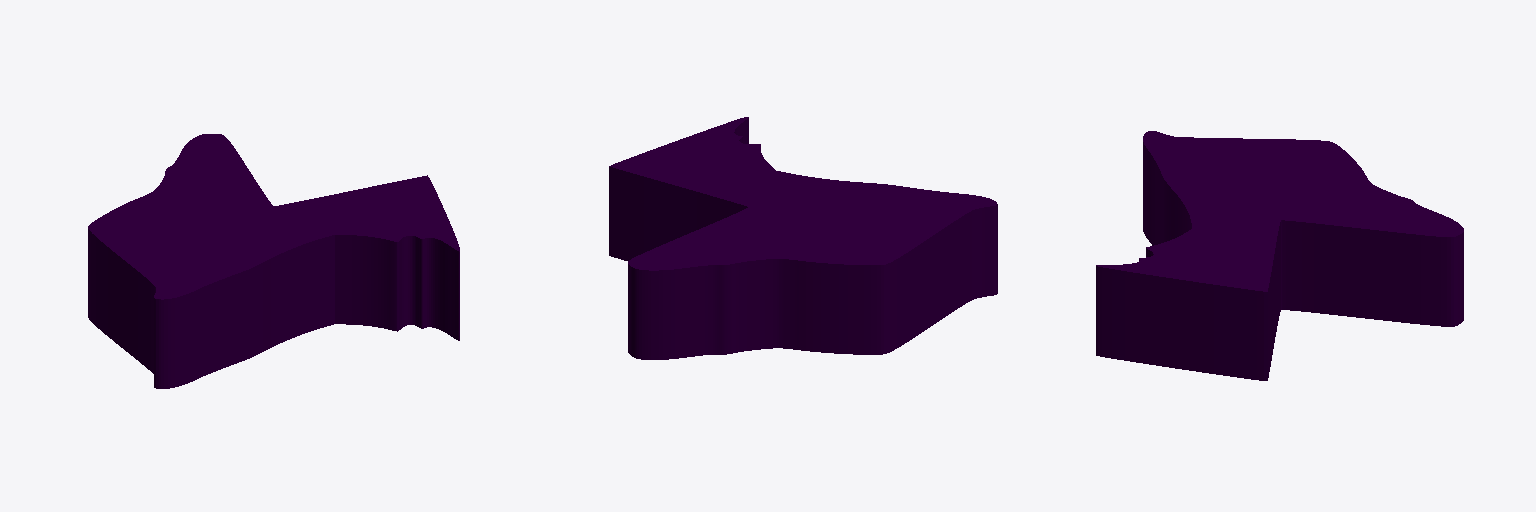
Rendered from Oceania_04.obj.
3 renders of one model, left to right at view 1: azimuth 30°, elevation 25°; view 2: azimuth 150°, elevation 25°; view 3: azimuth 270°, elevation 25°, orthographic.
Parts seen in each view (by area): view 1: Oceania_04_path4288; view 2: Oceania_04_path4288; view 3: Oceania_04_path4288.
Boxes of the visible parts, x1,y1,x2,y2 form: Oceania_04_path4288: [88, 134, 459, 388]; Oceania_04_path4288: [609, 117, 997, 359]; Oceania_04_path4288: [1096, 131, 1463, 380].
Bounding box in the file's own units: 0.3864 × 0.1 × 0.3731.